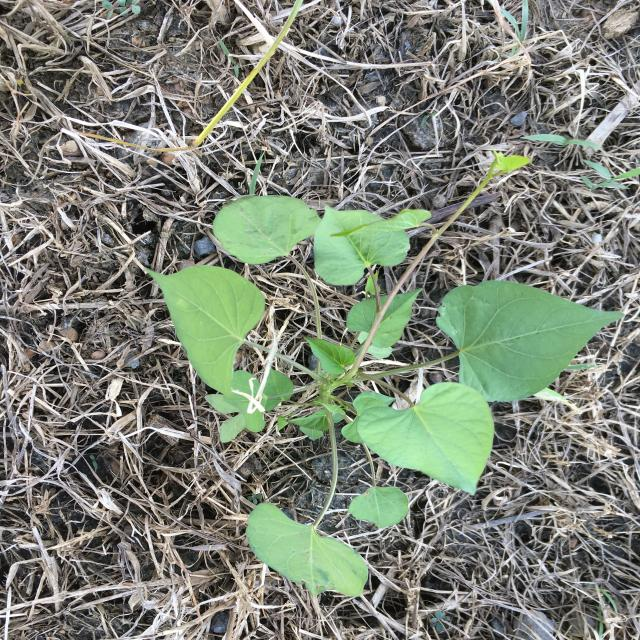MorningGlory: (144, 149, 625, 598)
